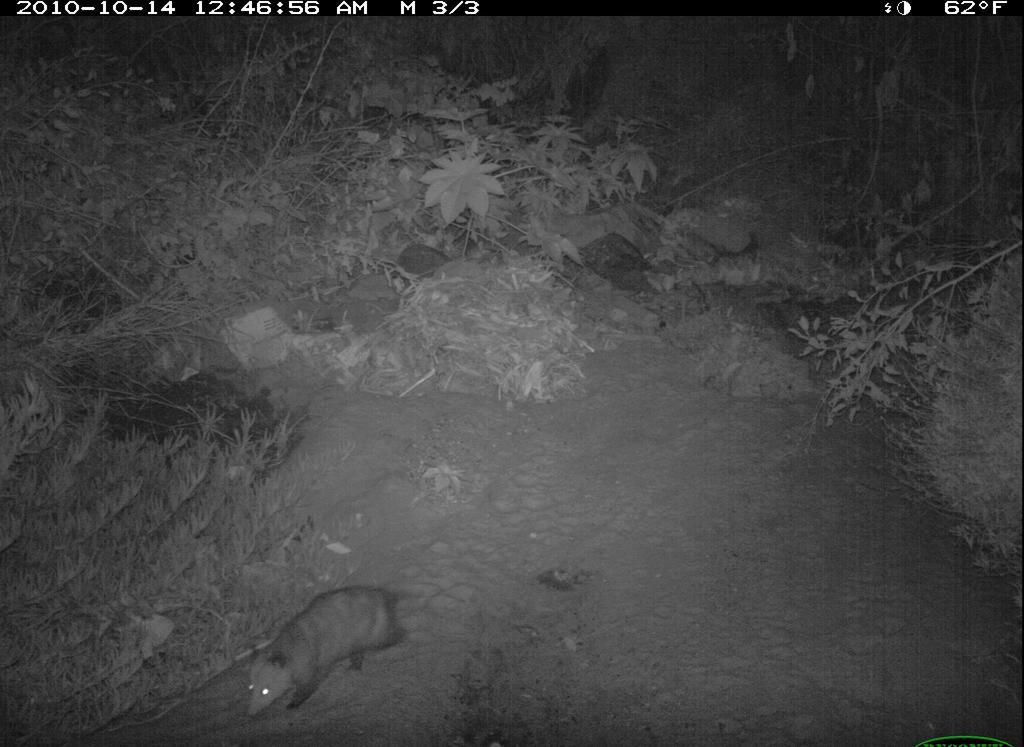opossum: (235, 579, 429, 720)
